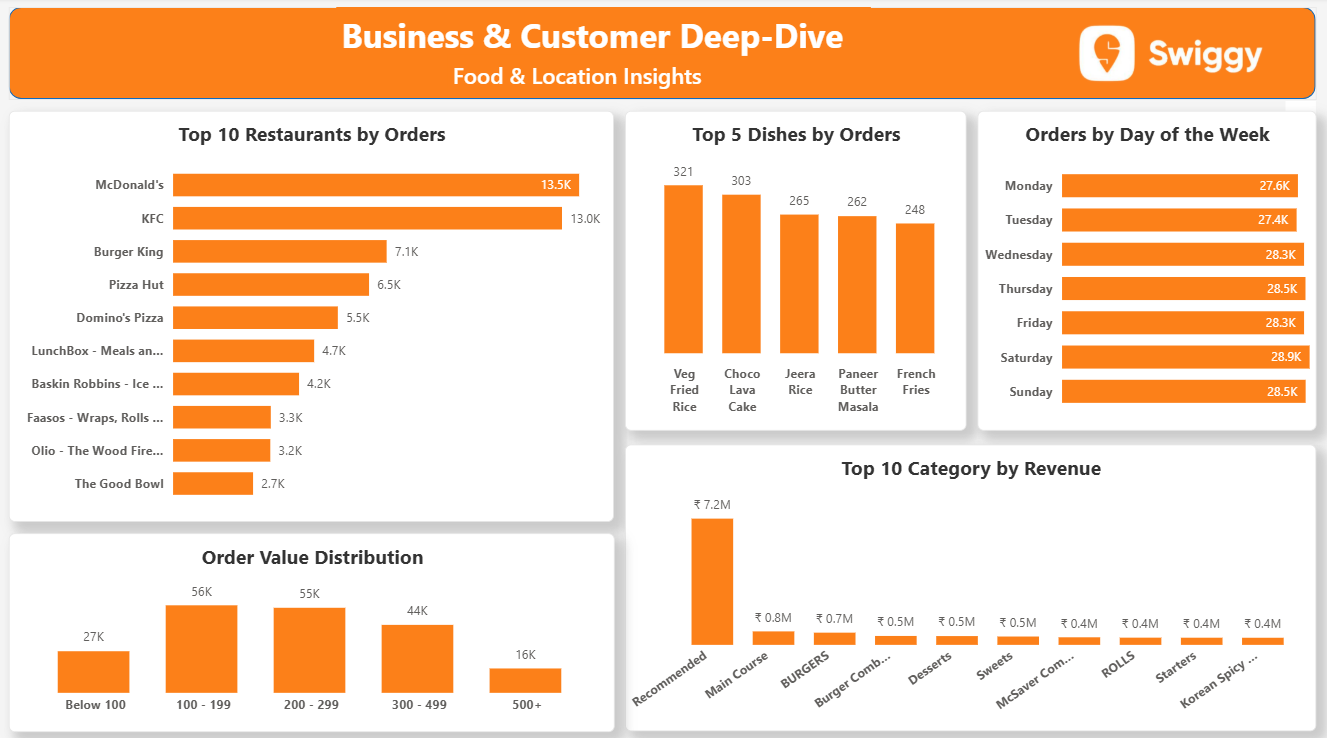

Layout of this report page (visuals, bound fields, positions):
{"tool":"powerbi","page":{"name":"Page 2","canvas":[1280,720],"ordinal":1},"visuals":[{"type":"shape","box":[8.8,10,1261.2,88.8],"z":0},{"type":"image","box":[1040,13.8,180,82.5],"z":1000},{"type":"textbox","box":[325,10,516.2,52.5],"z":2000},{"type":"textbox","box":[431.9,55.5,270.2,41],"z":3000},{"type":"barChart","title":"Top 10 Restaurants by Orders","fields":{"Category":["dim_restaurant.Restaurant_Name"],"Y":["fact_swiggy_orders.Total Orders"]},"box":[8.4,109.8,583.9,396.9],"z":4000},{"type":"columnChart","title":"Top 5 Dishes by Orders","fields":{"Category":["dim_dish.Dish_Name"],"Y":["fact_swiggy_orders.Orders Count"]},"box":[603.2,109.8,329.4,308.8],"z":5000},{"type":"clusteredBarChart","title":"Orders by Day of the Week","fields":{"Category":["dim_date.Day Name"],"Y":["fact_swiggy_orders.Orders Count"]},"box":[943.4,109.8,326.9,308.8],"z":6000},{"type":"columnChart","title":"Top 10 Category by Revenue","fields":{"Category":["dim_category.Category"],"Y":["fact_swiggy_orders.Total Revenue"]},"box":[603.8,432.2,666.9,277.2],"z":7000},{"type":"clusteredColumnChart","title":"Order Value Distribution","fields":{"Category":["fact_swiggy_orders.Order Value Bucket"],"Y":["fact_swiggy_orders.Total Orders"]},"box":[8.4,517.6,585.1,191.8],"z":7001}]}

Visuals, with their boxes in screenshot pixels (x1, y1, x2, y2), scaled from the page's 1280x720 canvas onto the 1327x738 screenshot:
shape: [x1=9, y1=10, x2=1317, y2=101]
image: [x1=1078, y1=14, x2=1265, y2=99]
textbox: [x1=337, y1=10, x2=872, y2=64]
textbox: [x1=448, y1=57, x2=728, y2=99]
"Top 10 Restaurants by Orders" barChart: [x1=9, y1=113, x2=614, y2=519]
"Top 5 Dishes by Orders" columnChart: [x1=625, y1=113, x2=967, y2=429]
"Orders by Day of the Week" clusteredBarChart: [x1=978, y1=113, x2=1317, y2=429]
"Top 10 Category by Revenue" columnChart: [x1=626, y1=443, x2=1317, y2=727]
"Order Value Distribution" clusteredColumnChart: [x1=9, y1=531, x2=615, y2=727]
